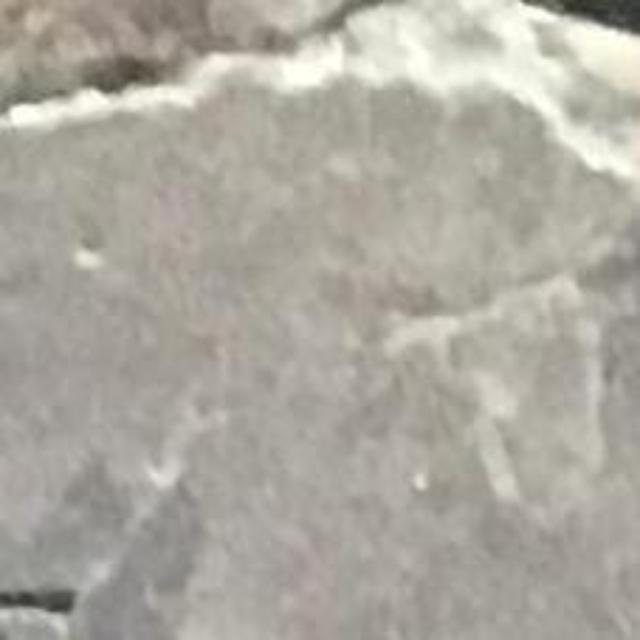crack: (0, 0, 408, 129)
